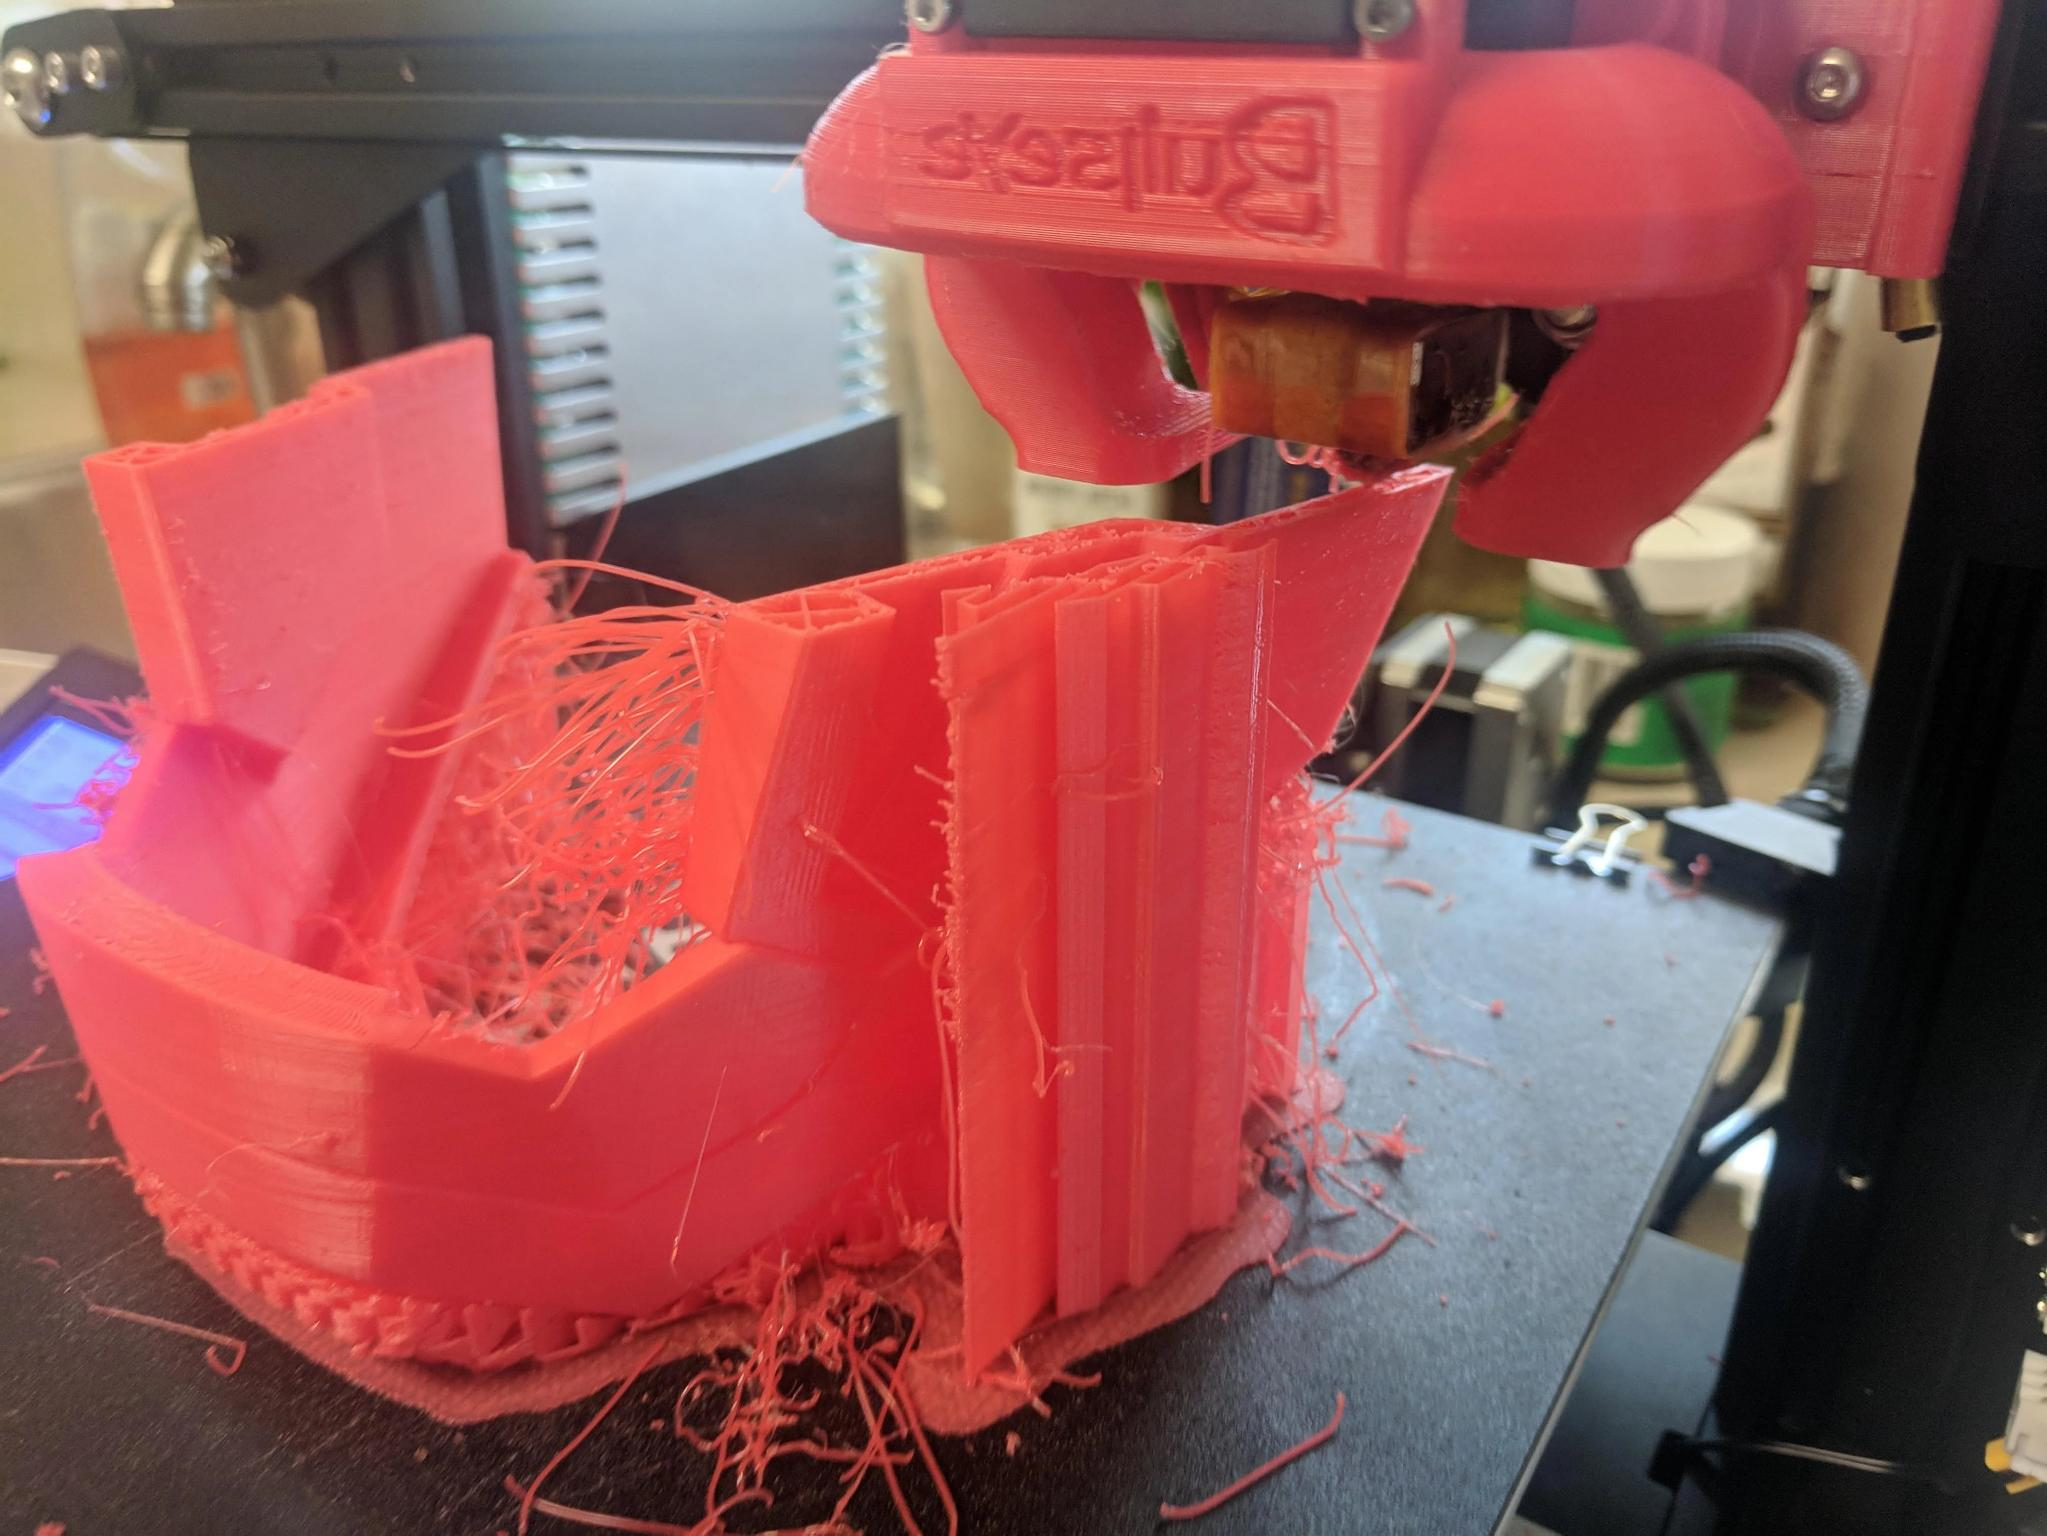Printing-Artifact: (424, 560, 752, 1042), (626, 1242, 987, 1536)
